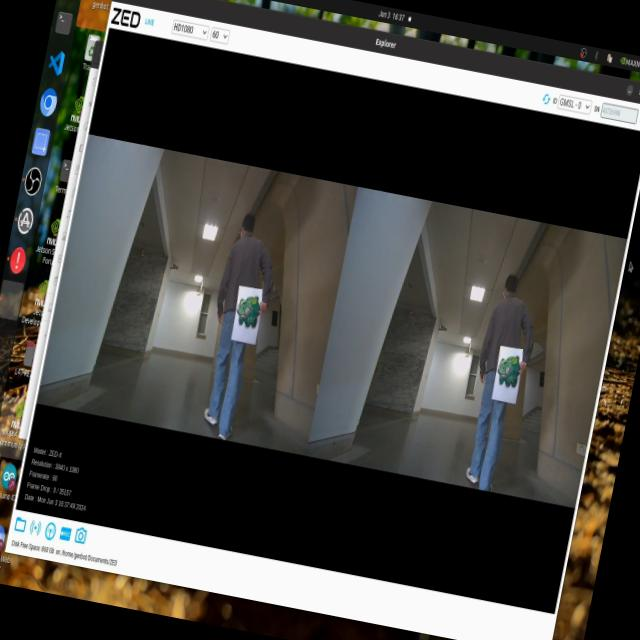green: (230, 288, 266, 344), (491, 349, 531, 394)
